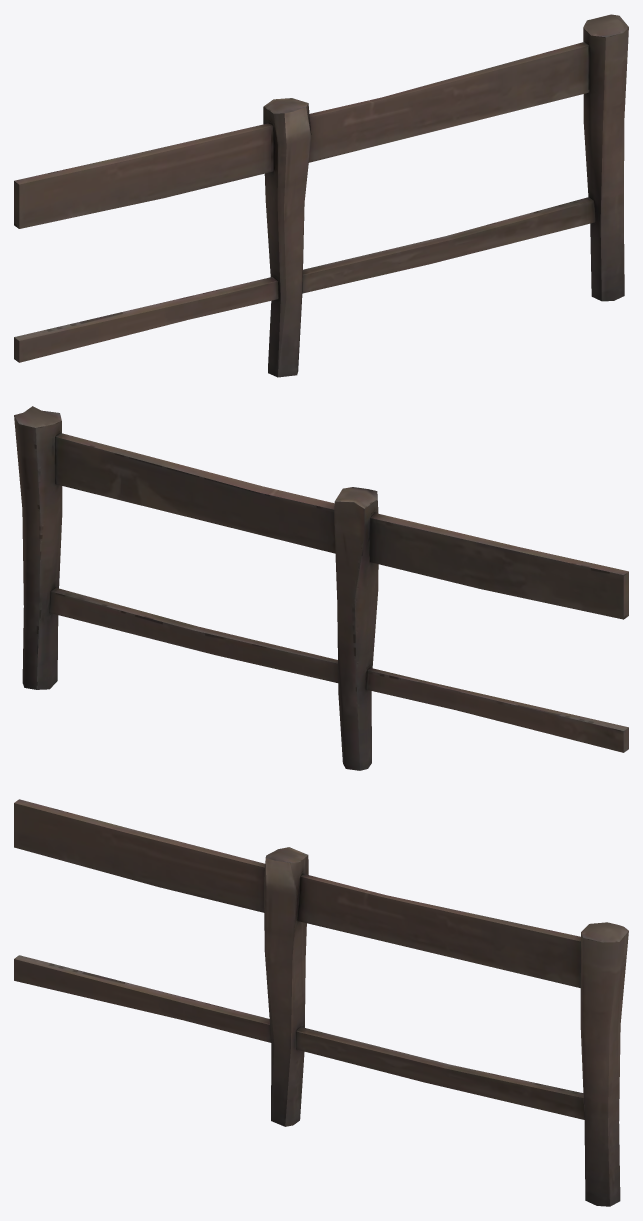
3 views of the same model, one above another, from view 1: azimuth 30°, elevation 25°; view 2: azimuth 150°, elevation 25°; view 3: azimuth 330°, elevation 25° (orthographic).
Visible parts, largest first — view 1: body0_model0_lod0_mesh0; view 2: body0_model0_lod0_mesh0; view 3: body0_model0_lod0_mesh0.
Part boxes in pixels (left/top/right/bottom): body0_model0_lod0_mesh0: left=14, top=14, right=628, bottom=377; body0_model0_lod0_mesh0: left=14, top=406, right=628, bottom=770; body0_model0_lod0_mesh0: left=14, top=799, right=628, bottom=1206.
Size of the model in its own units: 135 by 58.15 by 8.33.
Materials: 1 (1 with a texture image).
